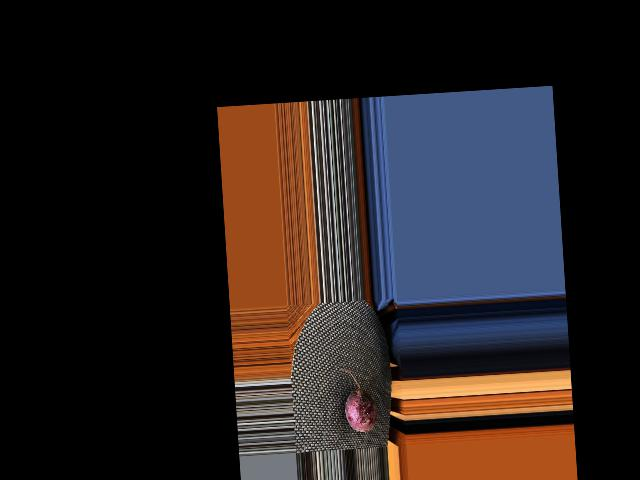beet: (338, 366, 378, 432)
